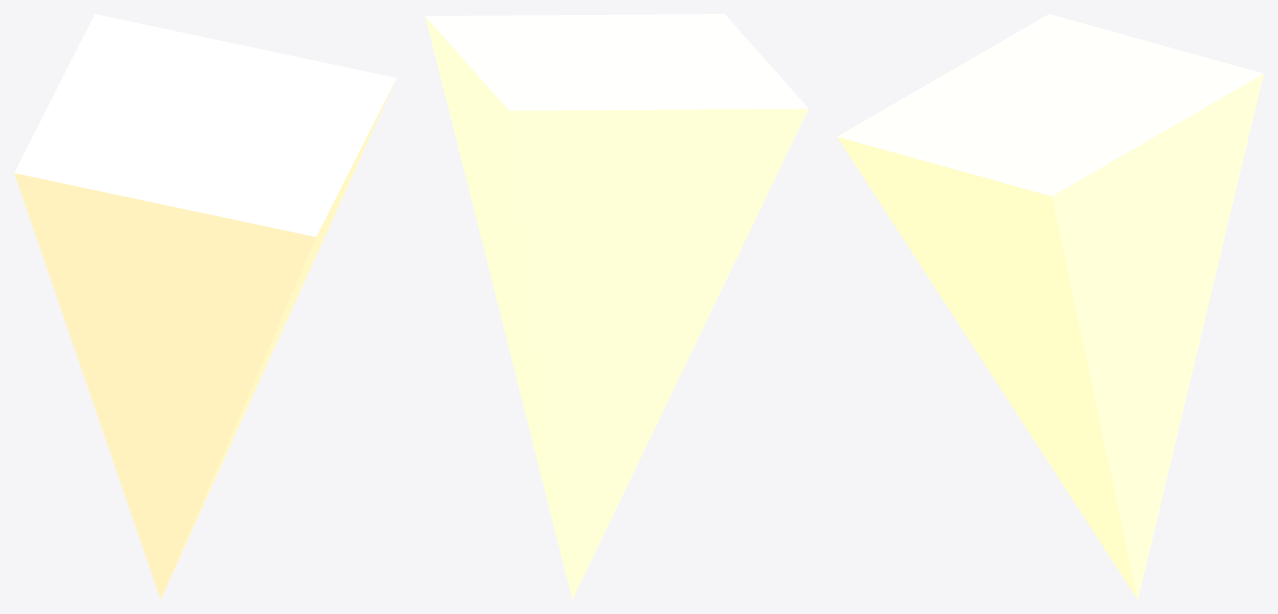
Rendered from soberano_nucleo.fbx.
3 renders of one model, left to right at view 1: azimuth 30°, elevation 25°; view 2: azimuth 150°, elevation 25°; view 3: azimuth 270°, elevation 25°, orthographic. The views are drawn at different scales.
Visible parts, largest first — view 1: soberano_nucleo; view 2: soberano_nucleo; view 3: soberano_nucleo.
Boxes of the visible parts, x1,y1,x2,y2 form: soberano_nucleo: (14,14,396,599); soberano_nucleo: (425,14,808,599); soberano_nucleo: (837,14,1263,599).
Bounding box in the file's own units: 0.594 × 0.7969 × 0.5865.
